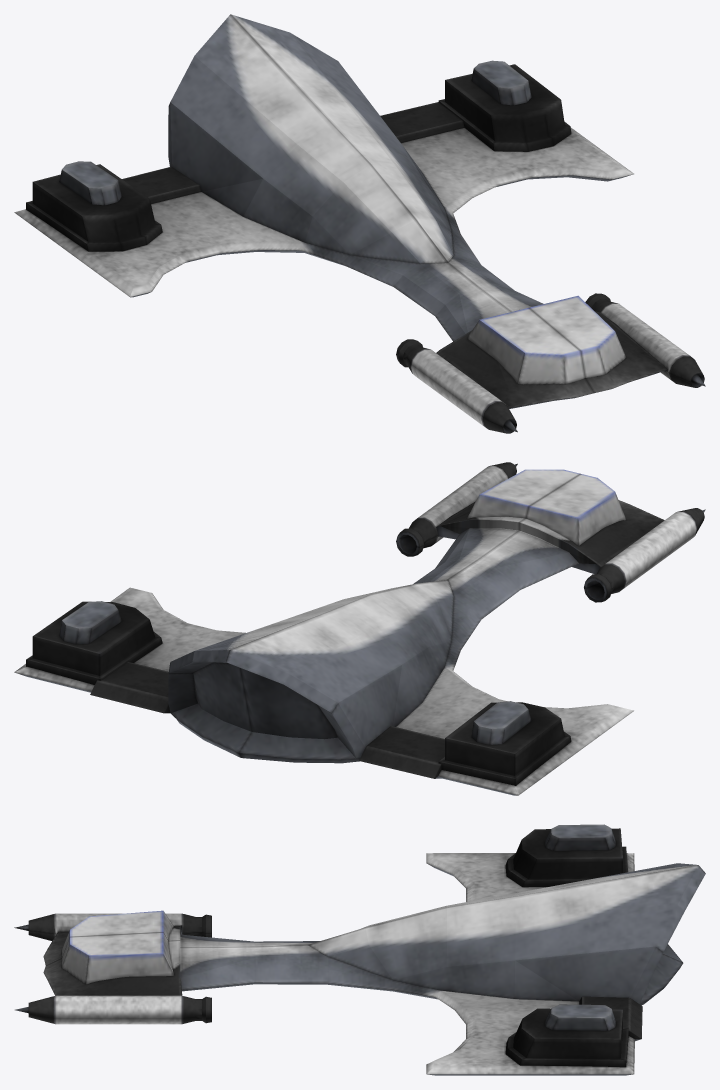
Rendered from Impero_4.fbx.
3 renders of one model, top to bottom at view 1: azimuth 30°, elevation 25°; view 2: azimuth 150°, elevation 25°; view 3: azimuth 270°, elevation 25°, orthographic. The views are drawn at different scales.
Visible parts, largest first — view 1: Texture, Colore1; view 2: Texture, Colore1; view 3: Texture, Colore1.
Boxes of the visible parts, <box> form: Texture: <box>26,14,705,433</box>; Colore1: <box>14,14,689,427</box>; Texture: <box>14,462,705,795</box>; Colore1: <box>15,466,696,794</box>; Texture: <box>14,824,705,1073</box>; Colore1: <box>55,853,697,1075</box>.
Size of the model in its own units: 6.87 by 1.69 by 9.09.
Materials: 2 (2 with a texture image).
